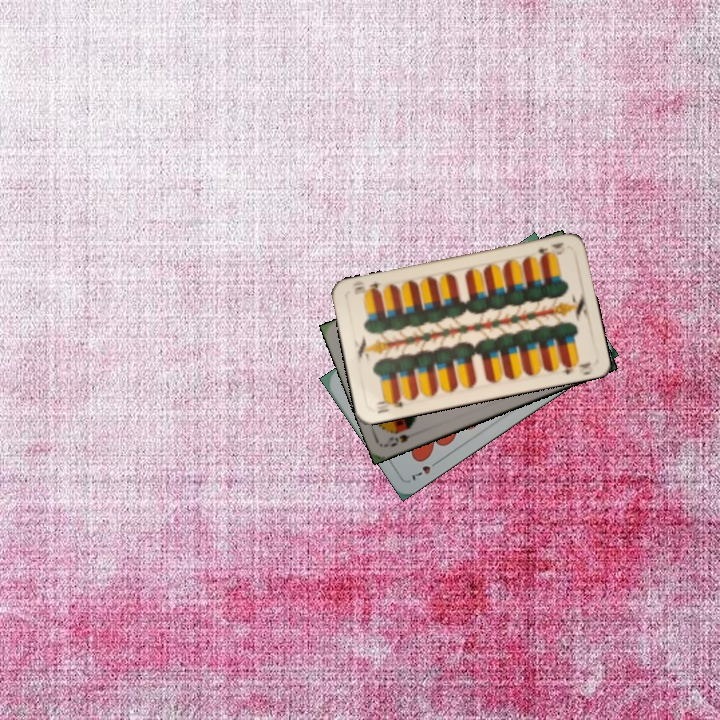E10: (534, 238, 568, 261), (373, 394, 405, 416)
H7: (408, 455, 443, 483)
SO: (383, 430, 411, 449)
